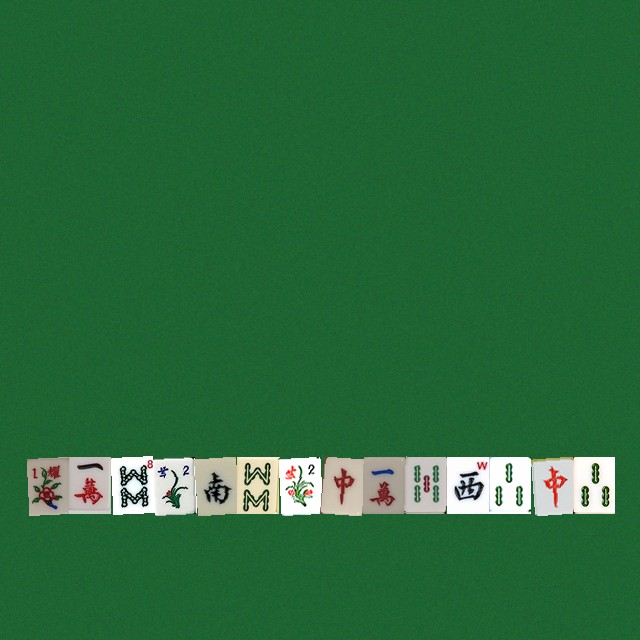tile: (26, 456, 68, 513), (68, 456, 110, 513), (110, 456, 152, 513), (152, 456, 194, 513), (194, 456, 236, 513), (236, 456, 278, 513), (278, 456, 320, 513), (320, 456, 362, 513), (362, 456, 404, 513), (404, 456, 446, 513), (446, 456, 488, 513), (488, 456, 530, 513), (530, 456, 572, 513), (572, 456, 614, 513)
